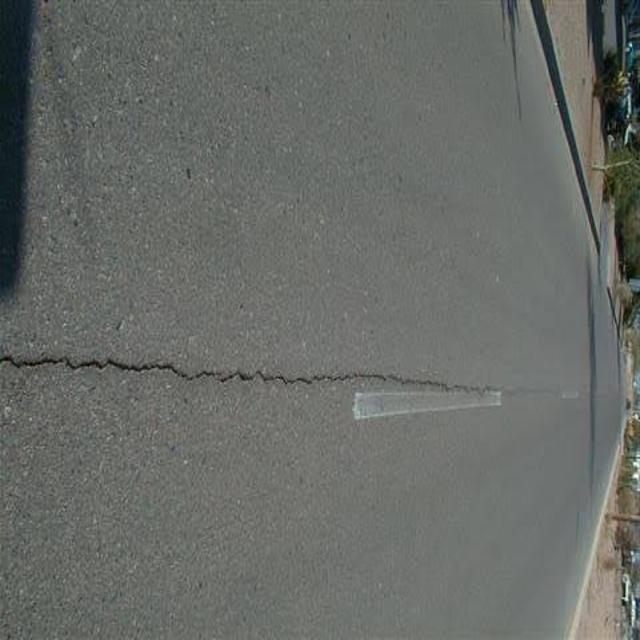Melintang: (0, 342, 526, 407)
